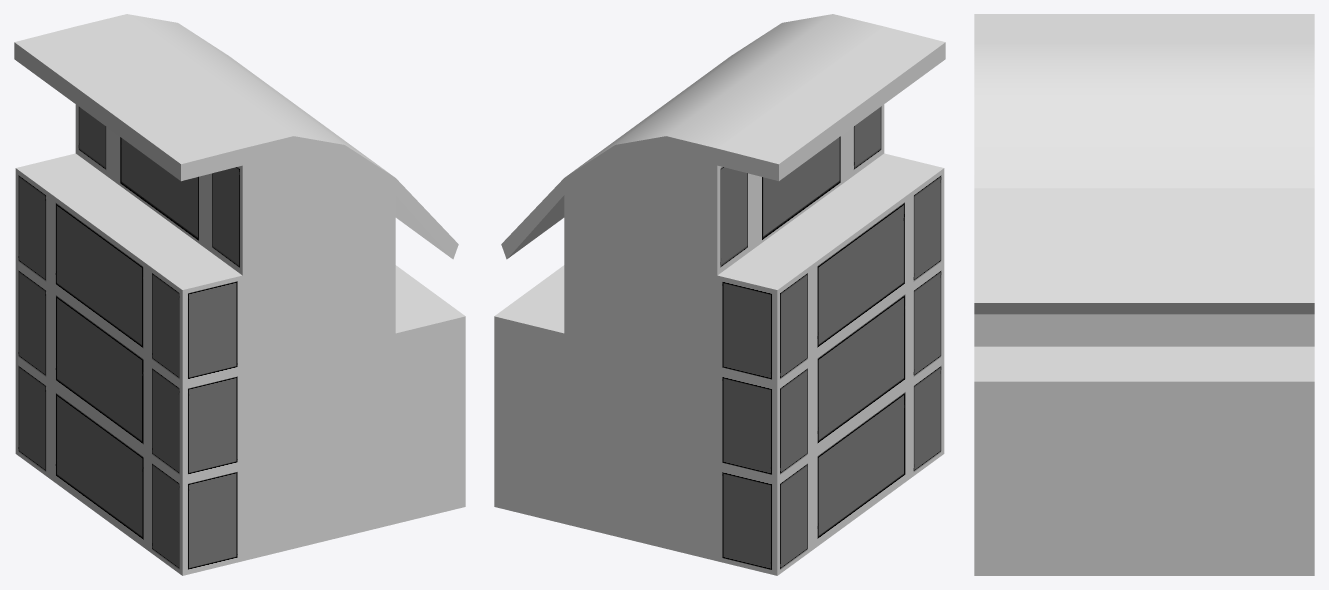
Rendered from tower.FBX.
3 renders of one model, left to right at view 1: azimuth 30°, elevation 25°; view 2: azimuth 150°, elevation 25°; view 3: azimuth 270°, elevation 25°, orthographic. The views are drawn at different scales.
Parts seen in each view (by area): view 1: Box001; view 2: Box001; view 3: Box001.
Boxes of the visible parts, <box> form: Box001: <box>14,14,465,575</box>; Box001: <box>494,14,945,575</box>; Box001: <box>974,14,1314,575</box>.
Size of the model in its own units: 56.95 by 78.86 by 57.77.
Materials: 1 (1 with a texture image).
